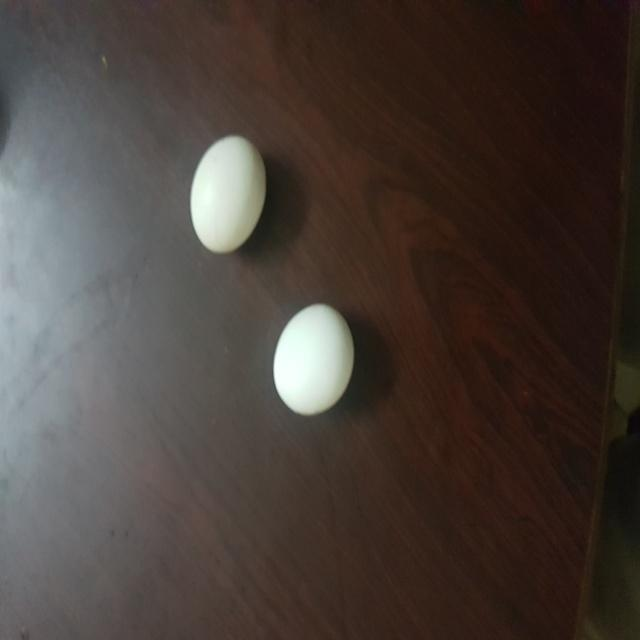eggs: (185, 130, 274, 259), (268, 300, 362, 419)
